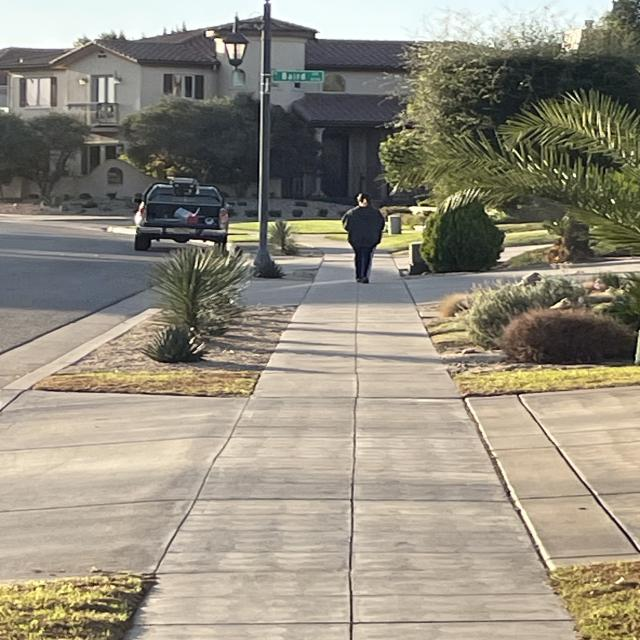curb: (104, 313, 164, 352), (12, 350, 78, 385), (59, 329, 145, 352)
road: (2, 213, 88, 315), (98, 235, 144, 308)
walkway: (184, 529, 531, 634), (218, 458, 514, 564), (244, 394, 466, 507), (282, 337, 456, 416), (311, 284, 418, 369)
walkway-edge: (478, 451, 604, 640), (438, 366, 508, 472), (412, 302, 478, 408), (106, 559, 166, 639), (262, 305, 313, 366), (239, 354, 282, 418)
